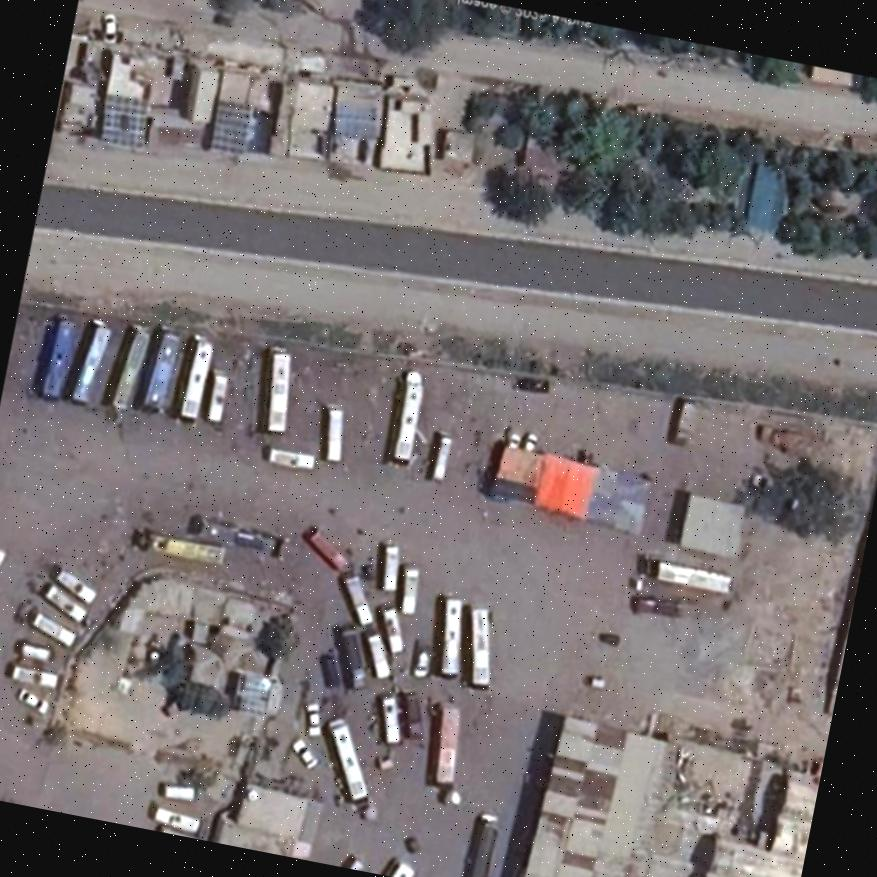Solarpanel: (99, 93, 143, 145), (209, 101, 248, 153)
